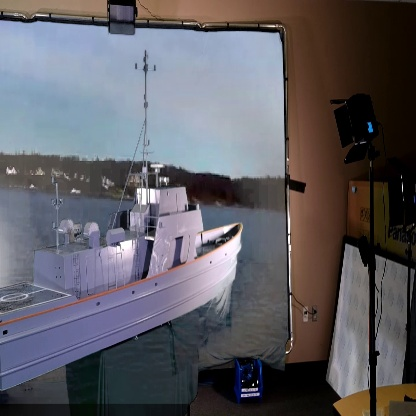YP689: (0, 67, 243, 394)
